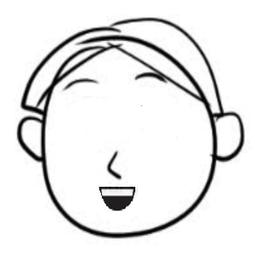ear: (200, 104, 249, 167), (10, 116, 57, 164)
eyebrow: (56, 76, 105, 93), (134, 70, 174, 88)
open_mouth: (94, 185, 151, 215)
pointy_nose: (95, 145, 135, 182)
